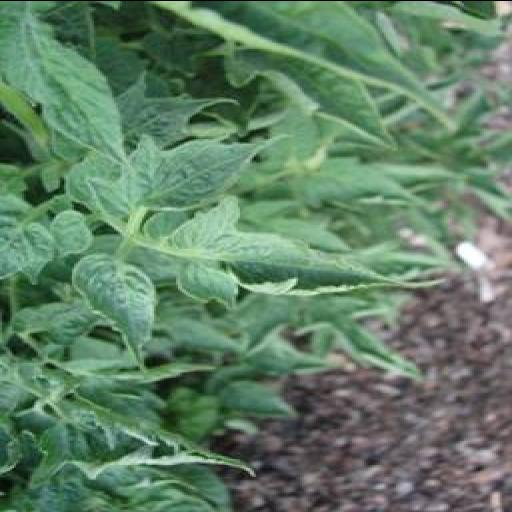Mosaic Virus: (156, 204, 418, 303), (4, 10, 126, 164), (114, 122, 286, 222), (66, 251, 164, 371), (50, 207, 88, 258)
